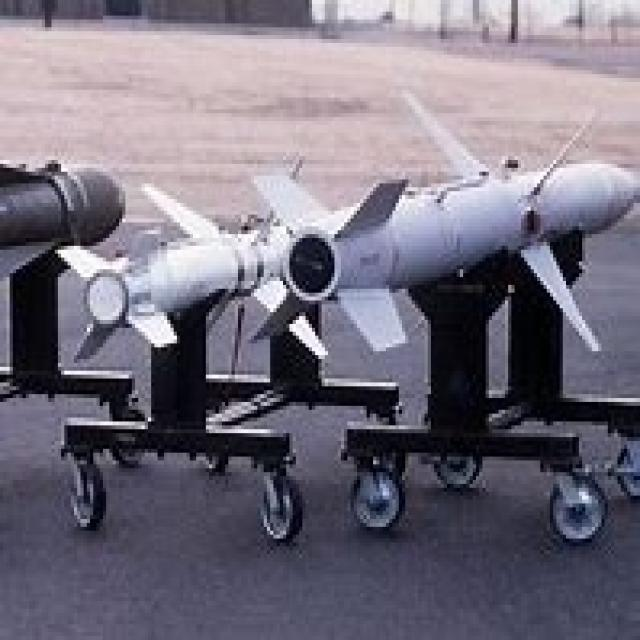missile: (233, 90, 640, 354), (0, 174, 319, 360)
